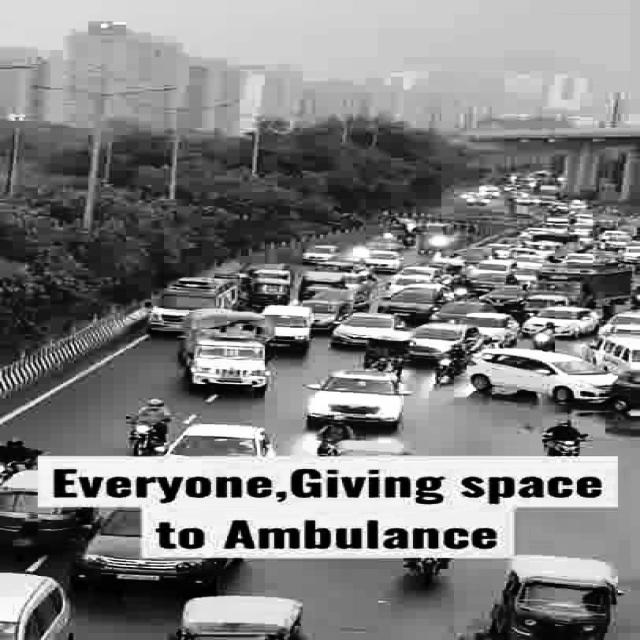Ambulance: (143, 276, 243, 308)
